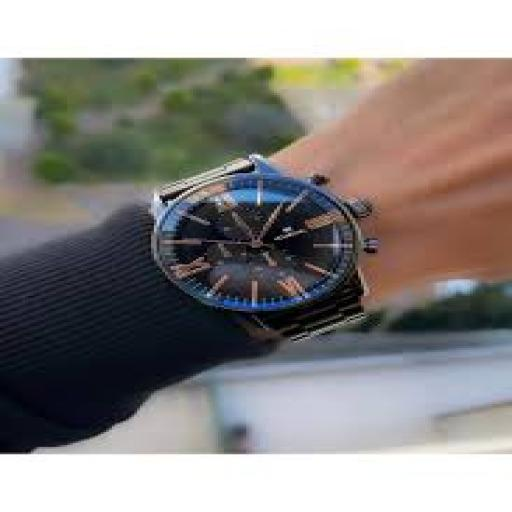KolSaati: (127, 130, 431, 352)
